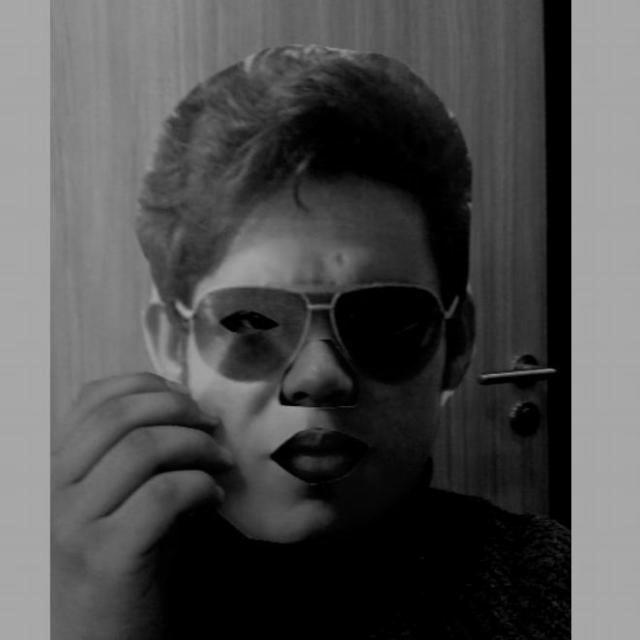fake: (136, 48, 483, 544)
